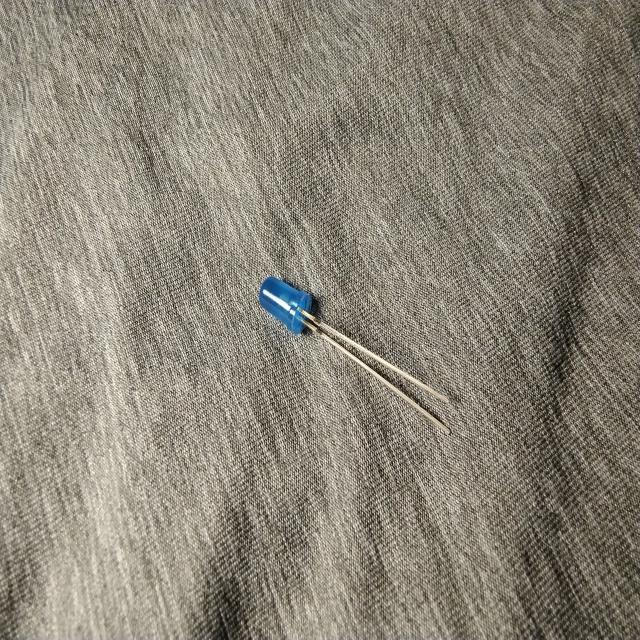blue_led: (258, 274, 452, 436)
